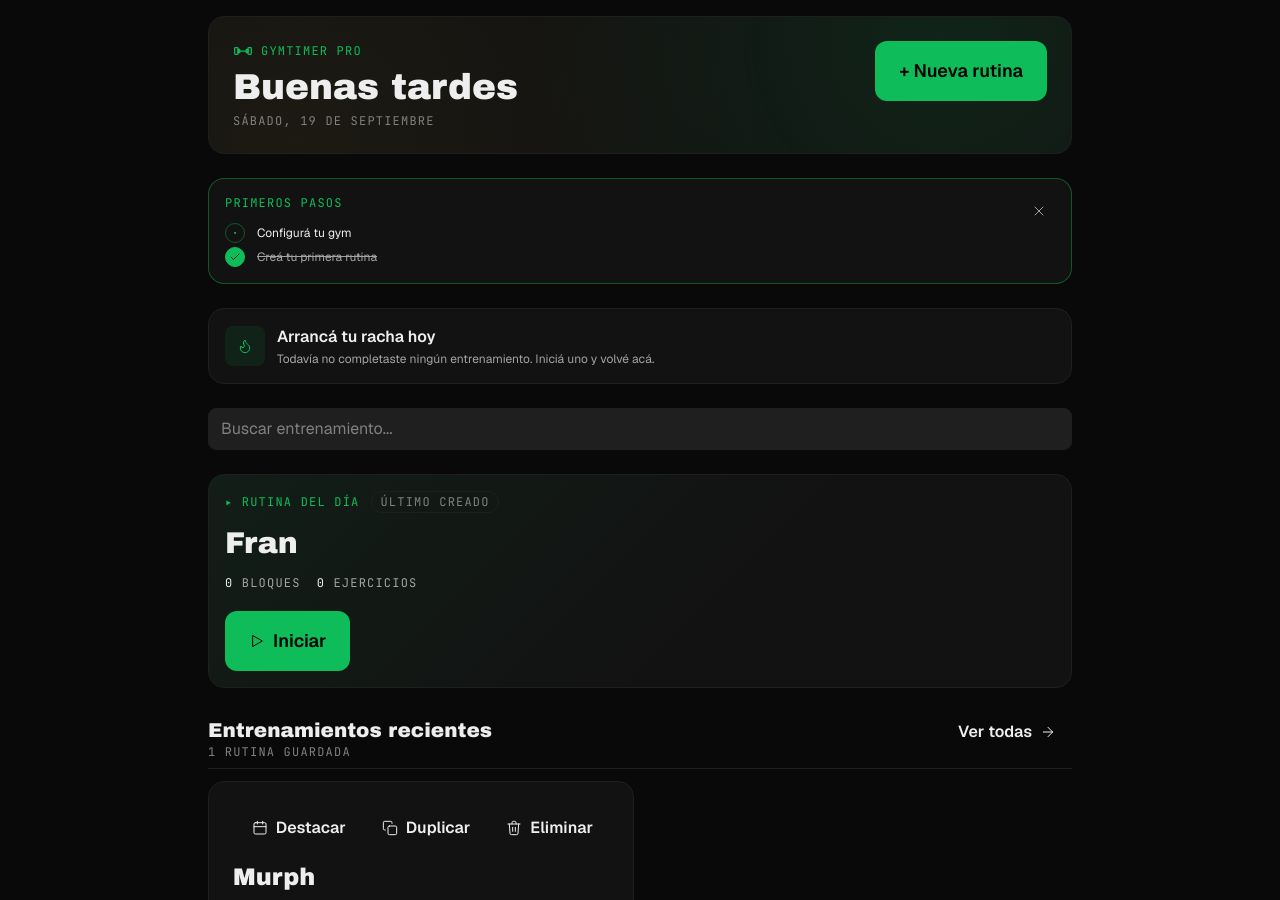
Test: Dashboard › filters recent workouts by the search input
The image size is (1280, 900).
Expected: the text "Murph" is shown, top-left (233, 864), bottom-right (315, 890)
Expected: the text "Fran" is shown, top-left (225, 527), bottom-right (298, 559)
Type "mur" into the field with placeholder "Buscar entrenamiento...". click: (640, 429)
box: top-left (208, 408), bottom-right (1072, 450)
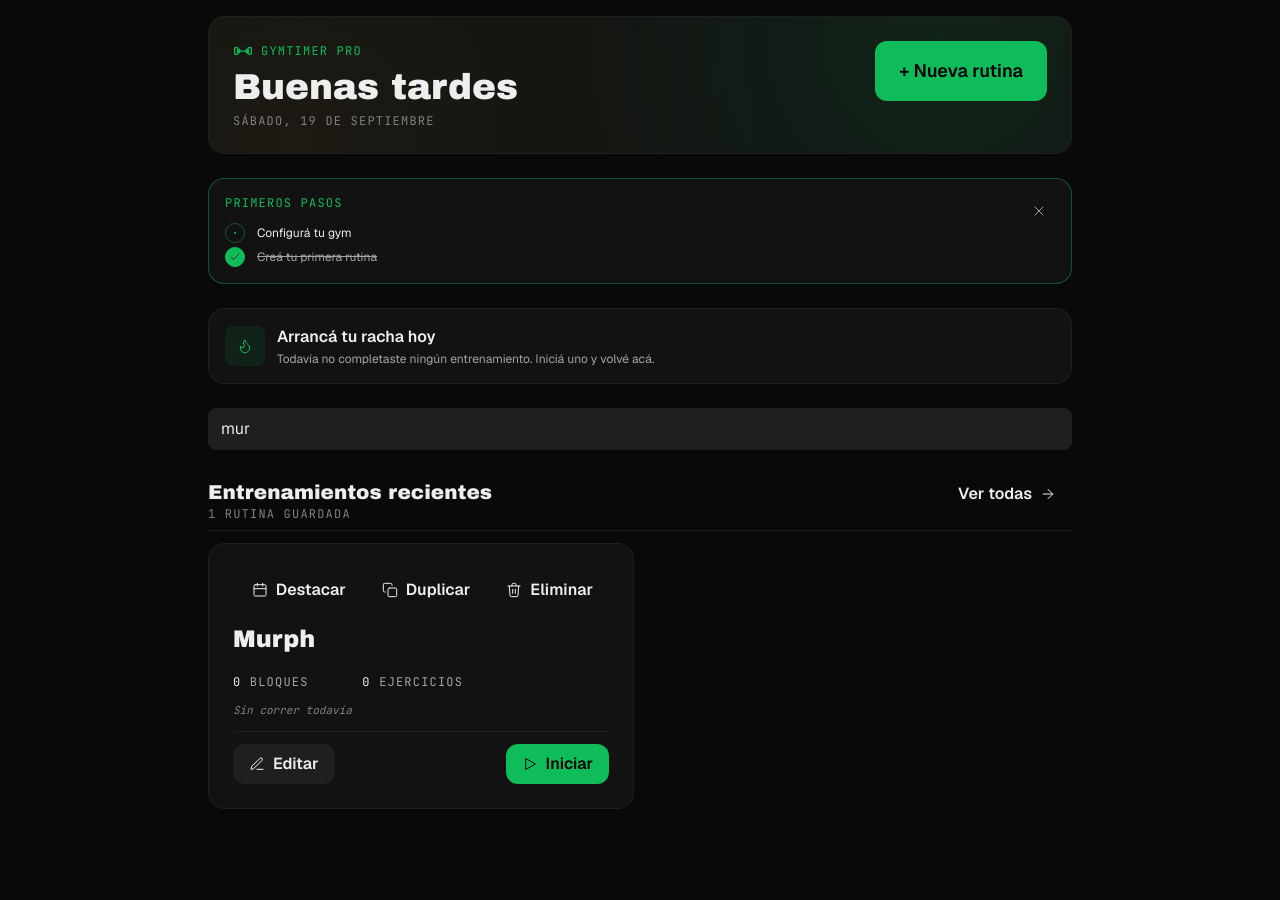
Expected: the text "Murph" is shown, top-left (233, 626), bottom-right (315, 652)
Now the text "Fran" is gone
